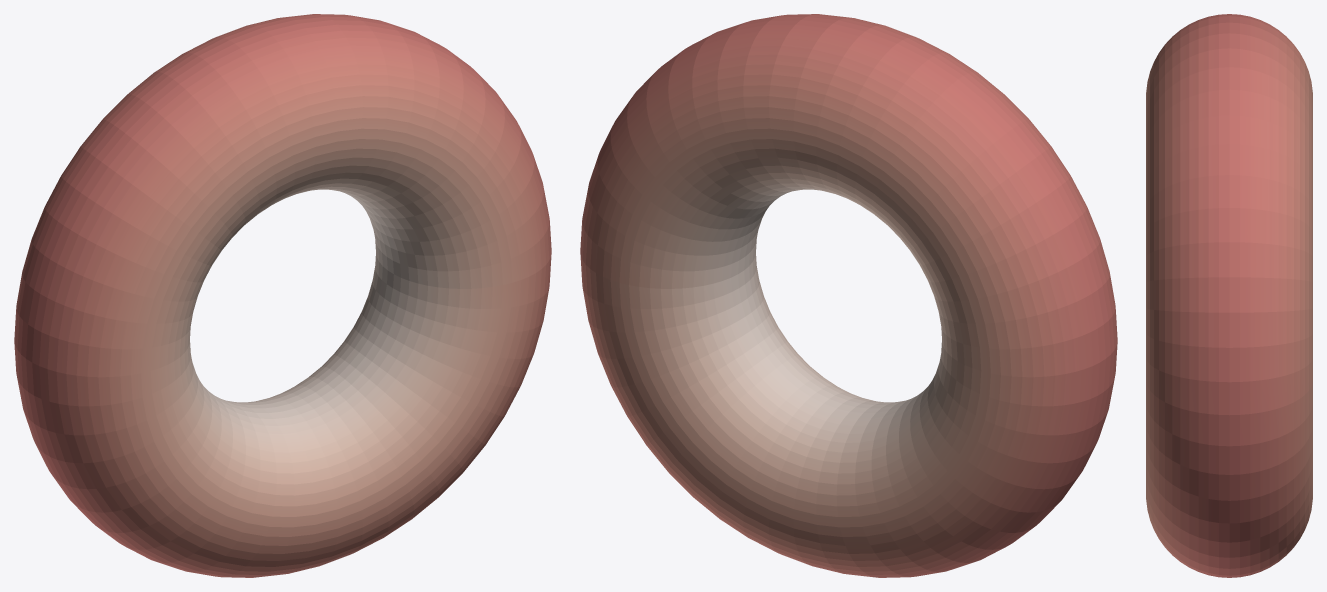
3 renders of one model, left to right at view 1: azimuth 30°, elevation 25°; view 2: azimuth 150°, elevation 25°; view 3: azimuth 270°, elevation 25°, orthographic. The views are drawn at different scales.
Visible parts, largest first — view 1: world; view 2: world; view 3: world.
Boxes of the visible parts, <box> form: world: <box>14,14,551,577</box>; world: <box>580,14,1117,577</box>; world: <box>1146,14,1312,577</box>.
Size of the model in its own units: 27.47 by 27.41 by 8.12.
